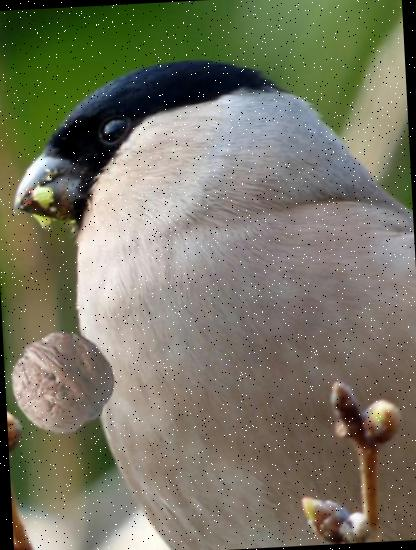Walnut: (8, 328, 117, 437)
